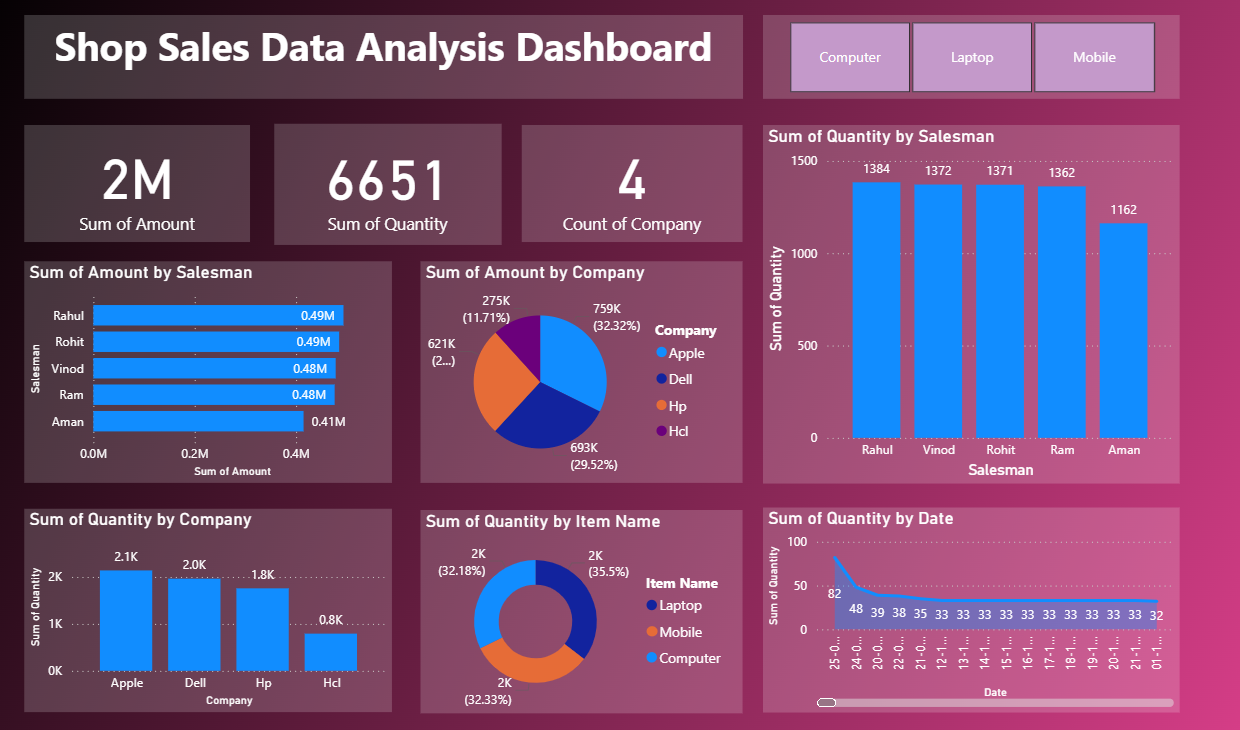

What the dashboard file says about the page in this screenshot:
{"tool":"powerbi","page":{"name":"Page 1","canvas":[1280,720],"ordinal":0},"visuals":[{"type":"card","fields":{"Values":["Sheet1.Amount"]},"box":[39.2,130.4,217.7,112.7],"z":0},{"type":"card","fields":{"Values":["Sheet1.Quantity"]},"box":[281,129.1,219,116.5],"z":1000},{"type":"card","fields":{"Values":["Sheet1.Company"]},"box":[519,130.4,212.7,112.7],"z":2000},{"type":"barChart","fields":{"Category":["Sheet1.Salesman"],"Y":["Sheet1.Amount"]},"box":[39.2,262,354.4,213.9],"z":3000},{"type":"pieChart","fields":{"Category":["Sheet1.Company"],"Y":["Sheet1.Amount"]},"box":[421.5,262,310.1,213.9],"z":4000},{"type":"columnChart","fields":{"Category":["Sheet1.Company"],"Y":["Sheet1.Quantity"]},"box":[39.2,500,354.4,196.2],"z":5000},{"type":"donutChart","fields":{"Category":["Sheet1.Item Name"],"Y":["Sheet1.Quantity"]},"box":[421.5,501.3,310.1,196.2],"z":6000},{"type":"stackedAreaChart","fields":{"Category":["Sheet1.Date"],"Y":["Sheet1.Quantity"]},"box":[751.9,498.7,401.3,197.5],"z":7000},{"type":"columnChart","fields":{"Y":["Sheet1.Quantity"],"Category":["Sheet1.Salesman"]},"box":[751.9,130.4,401.3,345.6],"z":8000},{"type":"textbox","box":[39.2,24.1,692.4,81],"z":9000},{"type":"slicer","fields":{"Values":["Sheet1.Item Name"]},"box":[751.9,24.1,401.3,81],"z":10000}]}

Visuals, with their boxes on the page's 1280x720 design canvas (x1, y1, x2, y2). These are canvas units, not pixel positions in the 1240x730 screenshot, which may show the page scaled, cropped or inside an application window:
card - Sheet1.Amount: <bbox>39, 130, 257, 243</bbox>
card - Sheet1.Quantity: <bbox>281, 129, 500, 246</bbox>
card - Sheet1.Company: <bbox>519, 130, 732, 243</bbox>
barChart - Sheet1.Salesman x Sheet1.Amount: <bbox>39, 262, 394, 476</bbox>
pieChart - Sheet1.Company x Sheet1.Amount: <bbox>422, 262, 732, 476</bbox>
columnChart - Sheet1.Company x Sheet1.Quantity: <bbox>39, 500, 394, 696</bbox>
donutChart - Sheet1.Item Name x Sheet1.Quantity: <bbox>422, 501, 732, 698</bbox>
stackedAreaChart - Sheet1.Date x Sheet1.Quantity: <bbox>752, 499, 1153, 696</bbox>
columnChart - Sheet1.Quantity x Sheet1.Salesman: <bbox>752, 130, 1153, 476</bbox>
textbox: <bbox>39, 24, 732, 105</bbox>
slicer - Sheet1.Item Name: <bbox>752, 24, 1153, 105</bbox>
